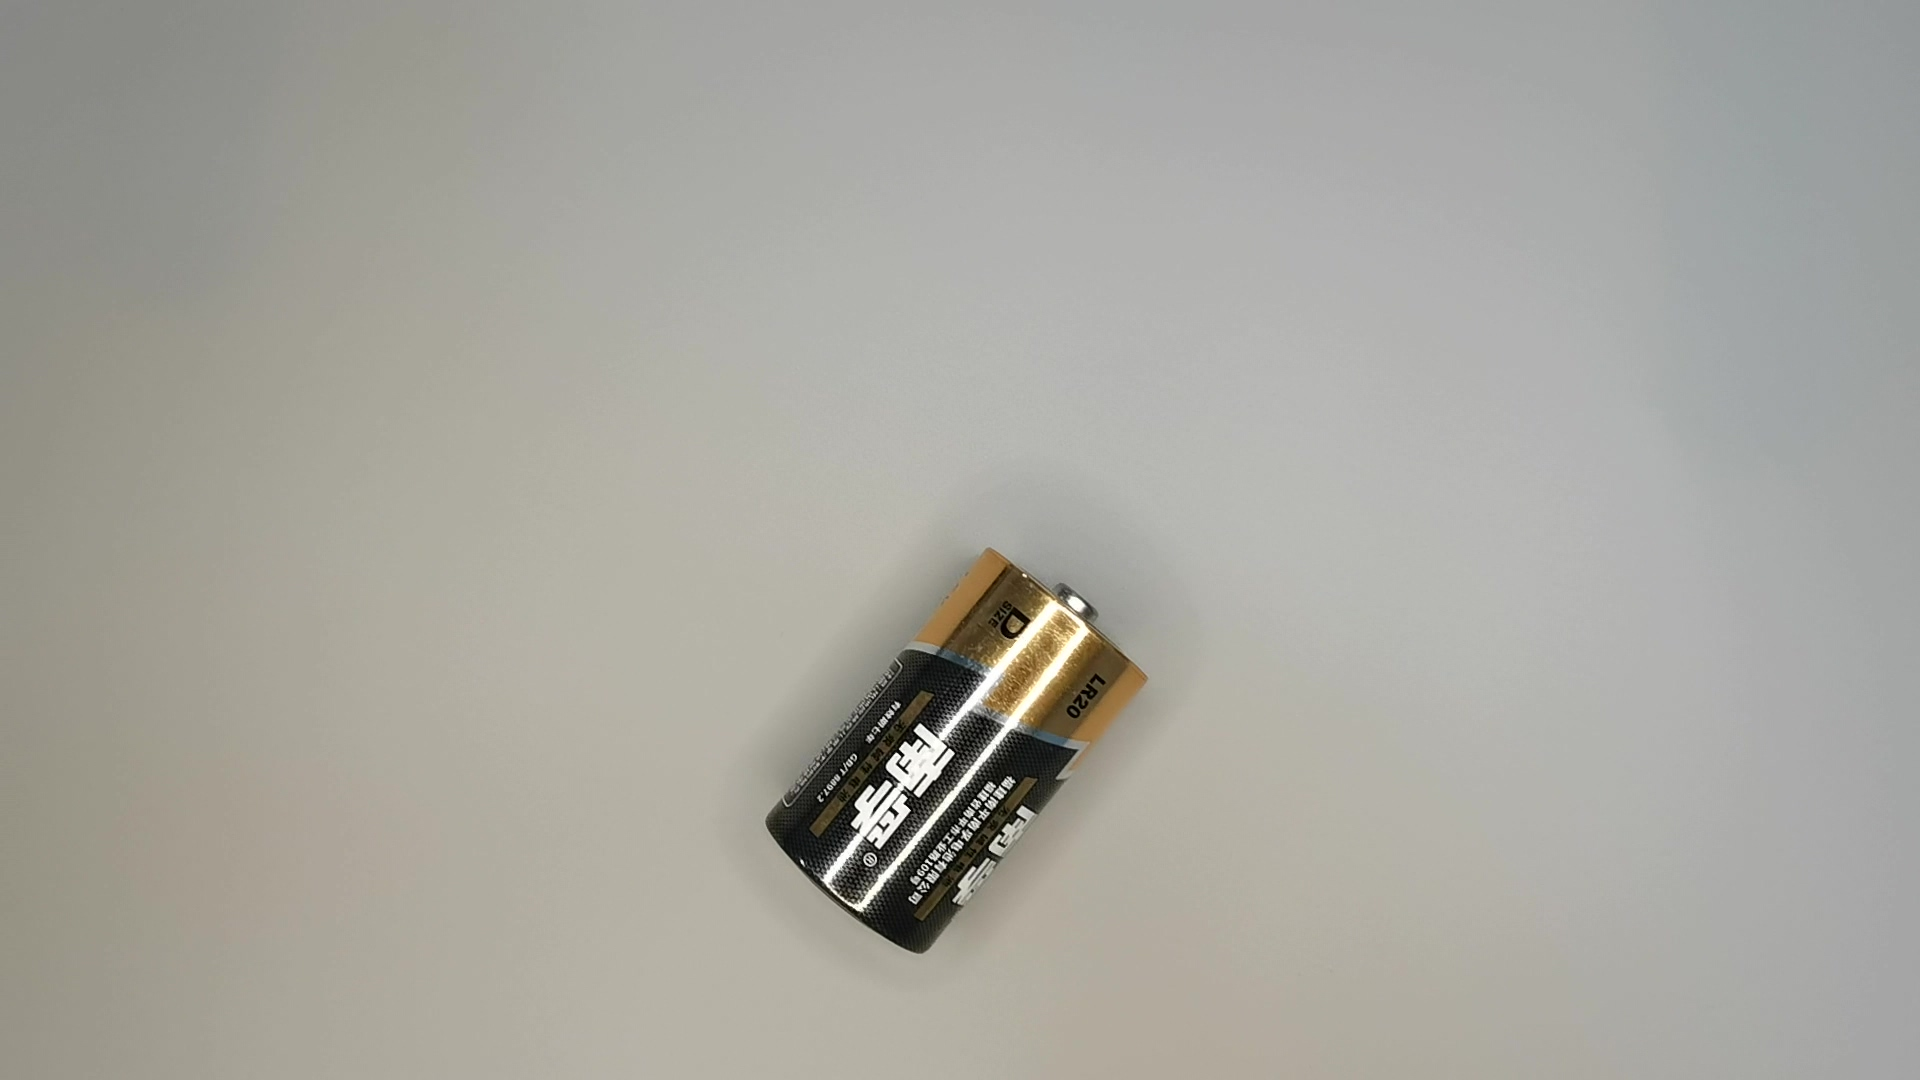battery: (762, 539, 1155, 965)
